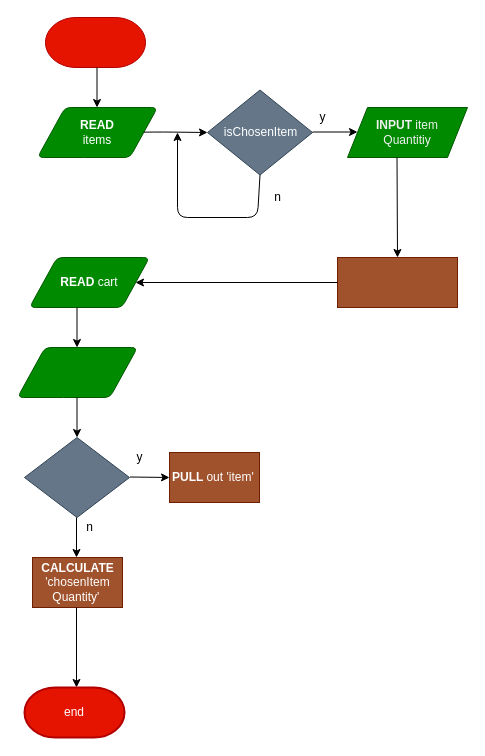
This 485x756 diagram has some shape labels left out. The shapes that lost their labels are listed below. From the top down, each one's centre as x and y in pixels, then its label:
At pixel 95 42: "start".
At pixel 397 282: "PUSH 'item' and 'itemQuantity' into 'cart'".
At pixel 77 372: "READ chosenItem".
At pixel 77 477: "isItemQuantity null".
